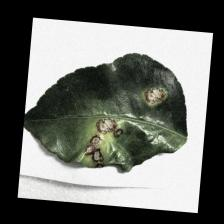canker: (72, 80, 179, 168)
